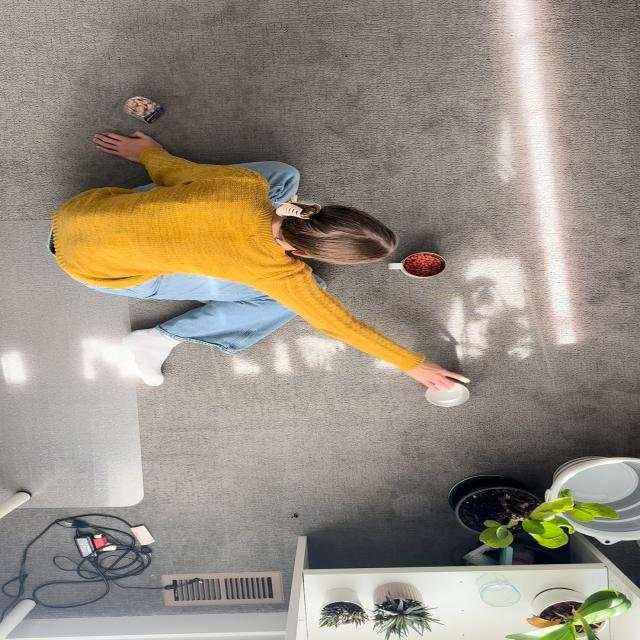IBC: (388, 252, 446, 278), (424, 382, 468, 406)
